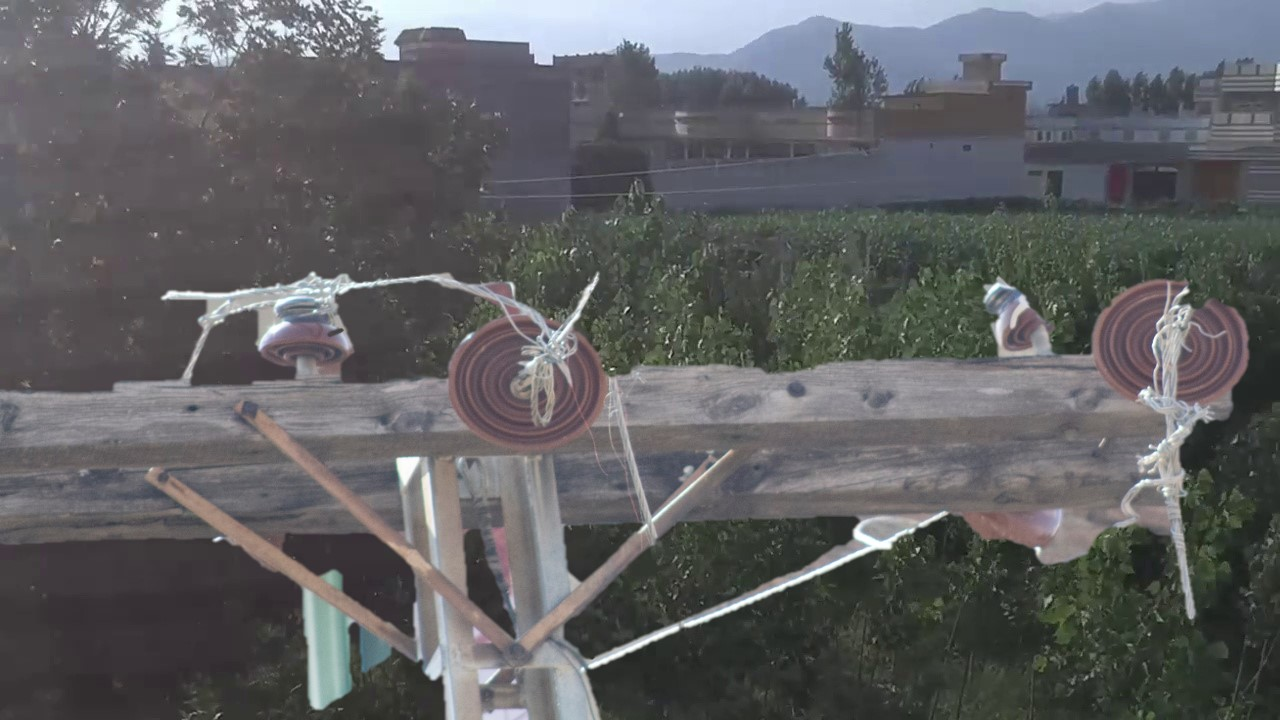defect_pin: (980, 275, 1056, 359)
insulator_disc: (445, 311, 609, 462), (1088, 268, 1257, 413)
insulator_pin: (252, 291, 354, 377)
